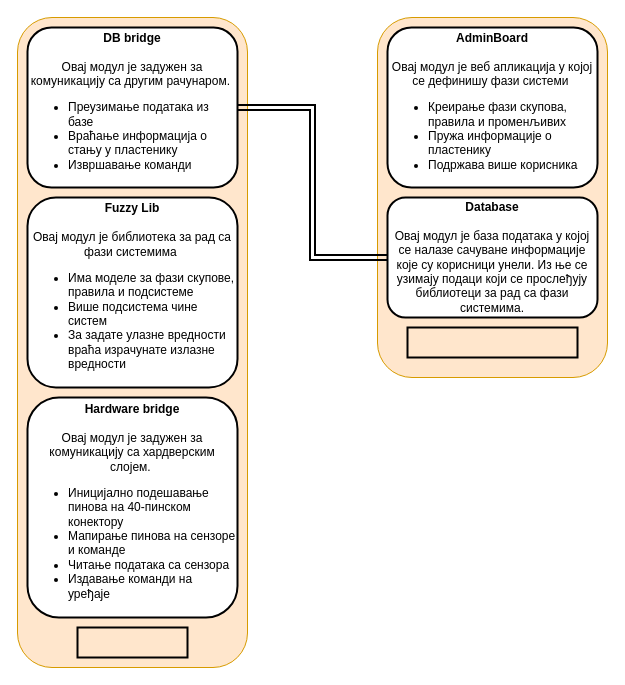
The diagram is 625 pixels wide and 685 high, and some of its shapes have lost their labels. Here are the shapes that lost their labels. From the top down, the centre of each, then its label:
the point at 492,342: Бекенд сервер / Клауд
the point at 132,642: Raspberry PI 3 B+
